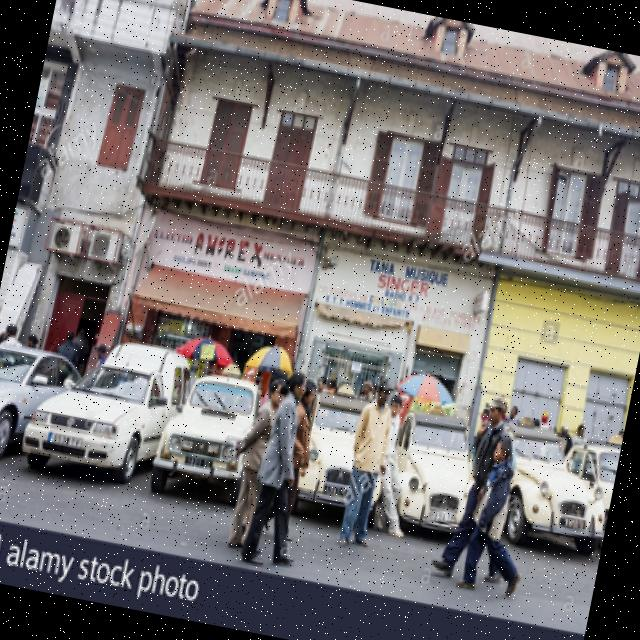Autre: (41, 420, 92, 460), (312, 482, 365, 503), (422, 508, 463, 528), (557, 512, 593, 534), (178, 452, 216, 472)
